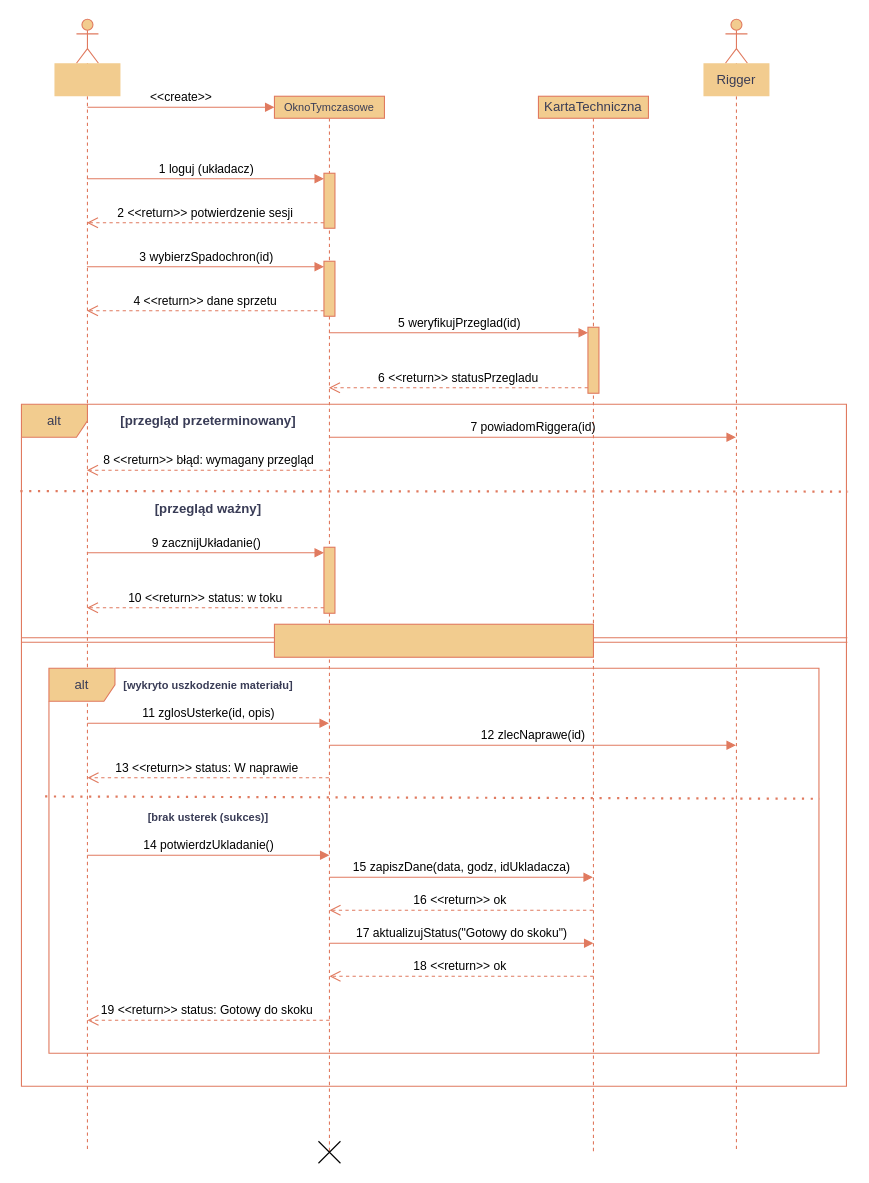
The diagram is 869 pixels wide and 1183 high, and some of its shapes have lost their labels. Each missing label, with the centre of its shape:
FIZYCZNE UKŁADANIE CZASZY: (433,640)
Układacz User: (87,79)
